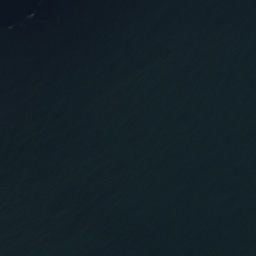Marine Debris: (27, 13, 34, 18)
